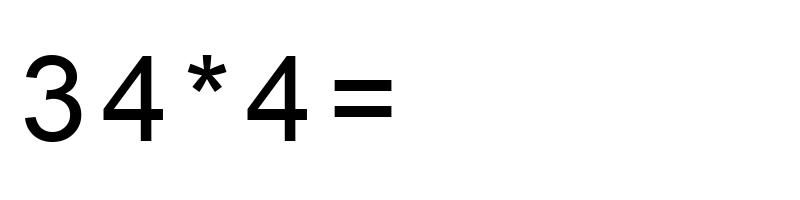*: (184, 32, 231, 167)
3: (20, 32, 87, 167)
4: (102, 32, 169, 167), (246, 32, 313, 167)
=: (328, 32, 398, 167)
